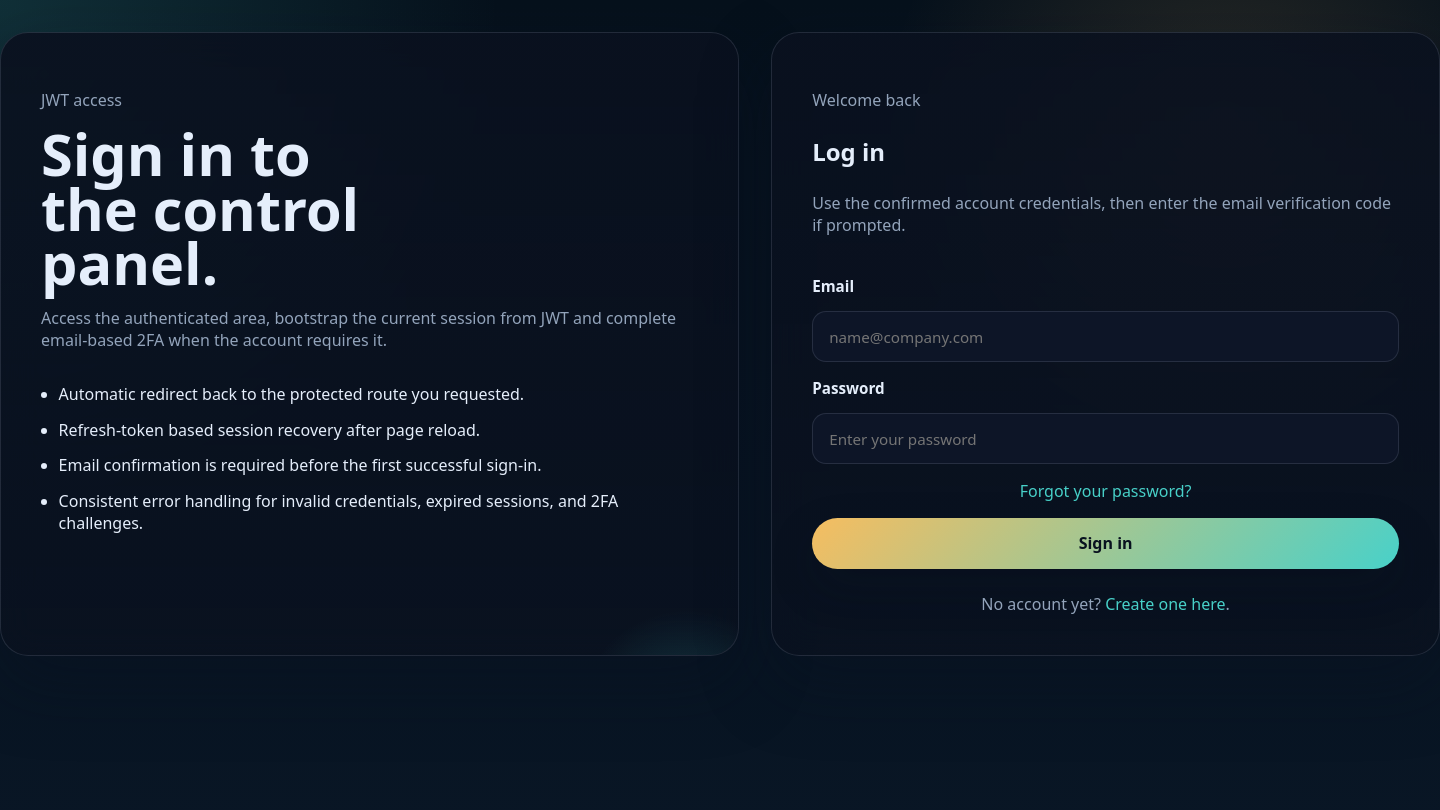
Test case: Login page › shows a friendly rate-limit message when login receives 429
Type "test@example.com" into the field labelled "Email" at (1106, 337), box [812,311,1399,362]
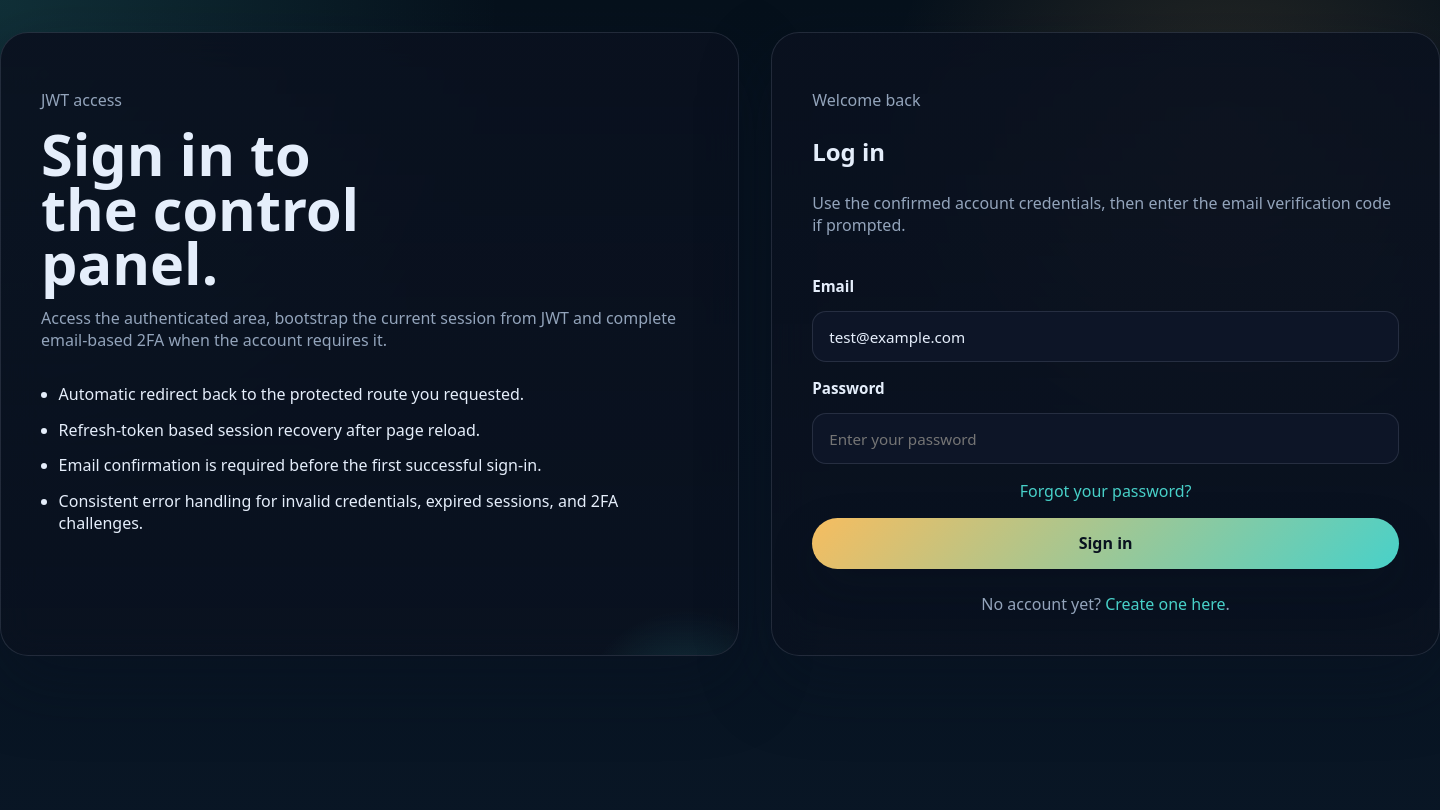
Type "password123" into the password field labelled "Password" at (1106, 439), box [812,413,1399,464]
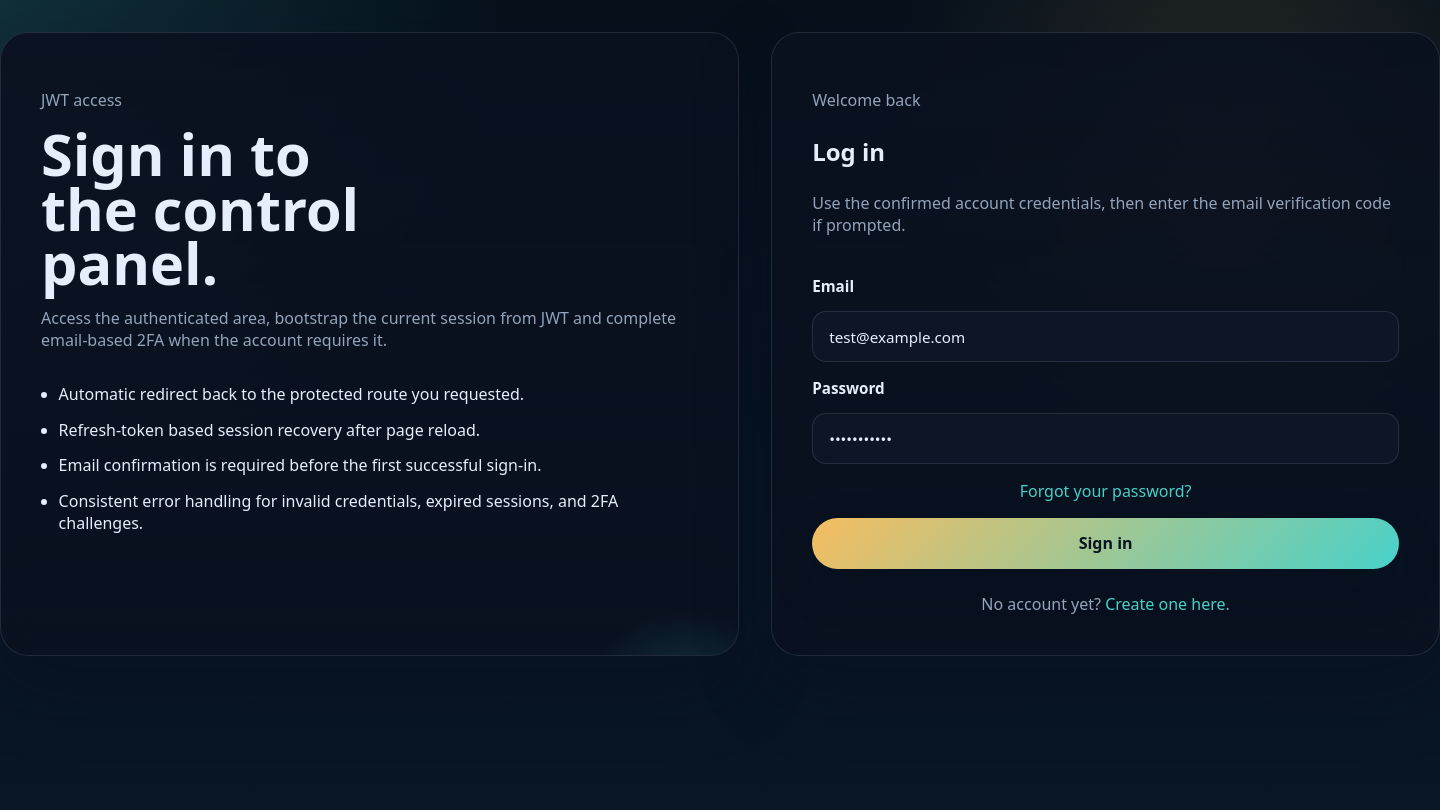
Click the button "Sign in" at (1106, 543), box [812,518,1399,569]
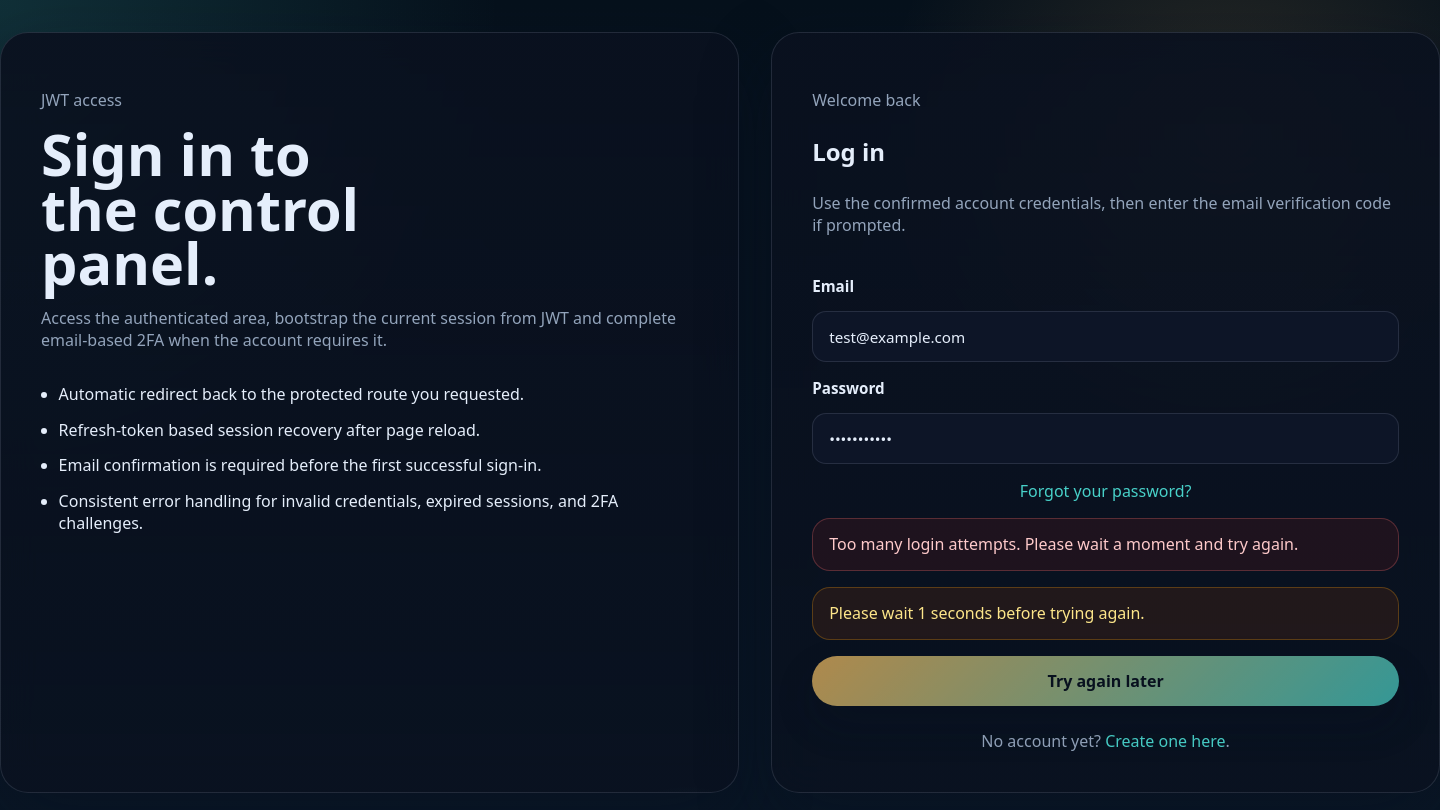
Check: the text "Too many login attempts. Please wait a moment and try again." is shown, box [812,518,1399,571]
